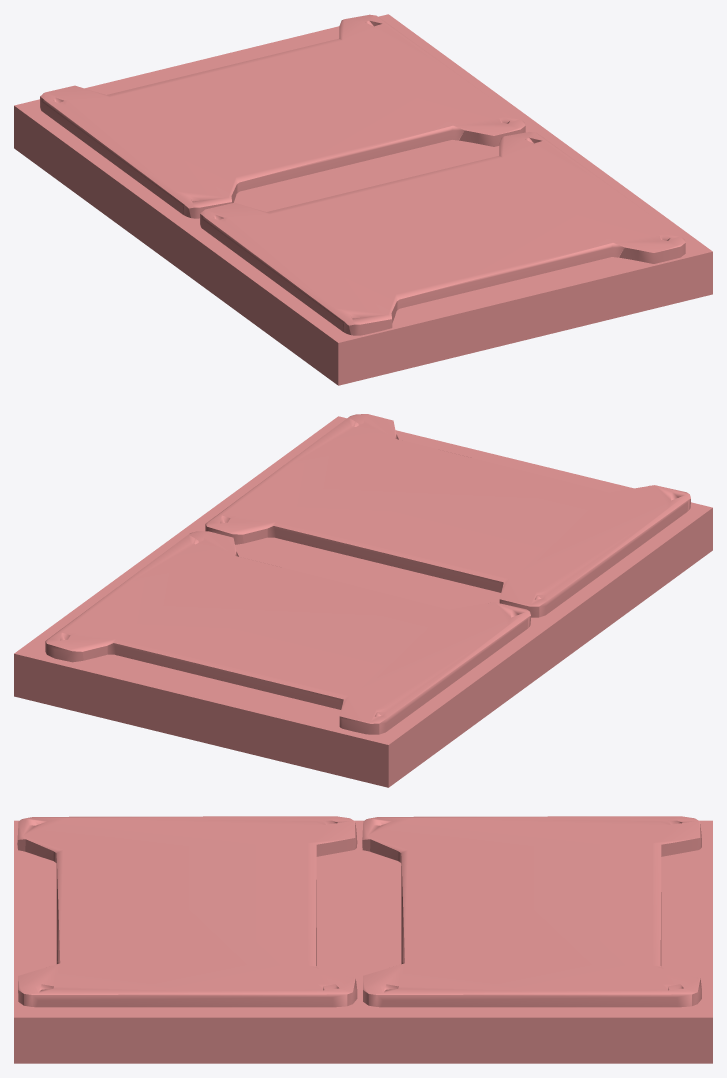
Rendered from ComplexWall_3x2_01_Final.fbx.
The picture shows the model from 3 angles, top to bottom: view 1: azimuth 30°, elevation 25°; view 2: azimuth 150°, elevation 25°; view 3: azimuth 270°, elevation 25°; orthographic projection. The views are drawn at different scales.
Visible parts, largest first — view 1: Final_ComplexWall_3x2_01; view 2: Final_ComplexWall_3x2_01; view 3: Final_ComplexWall_3x2_01.
Boxes of the visible parts, bbox=[...] form: Final_ComplexWall_3x2_01: bbox=[14, 14, 712, 385]; Final_ComplexWall_3x2_01: bbox=[14, 414, 712, 787]; Final_ComplexWall_3x2_01: bbox=[14, 816, 712, 1063].
Size of the model in its own units: 200 by 28.13 by 300.
